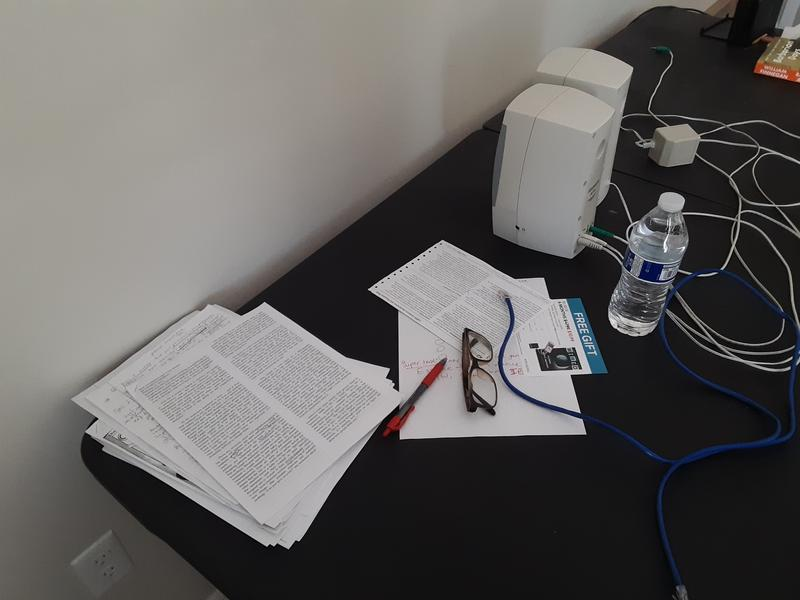glasses: (461, 326, 499, 417)
